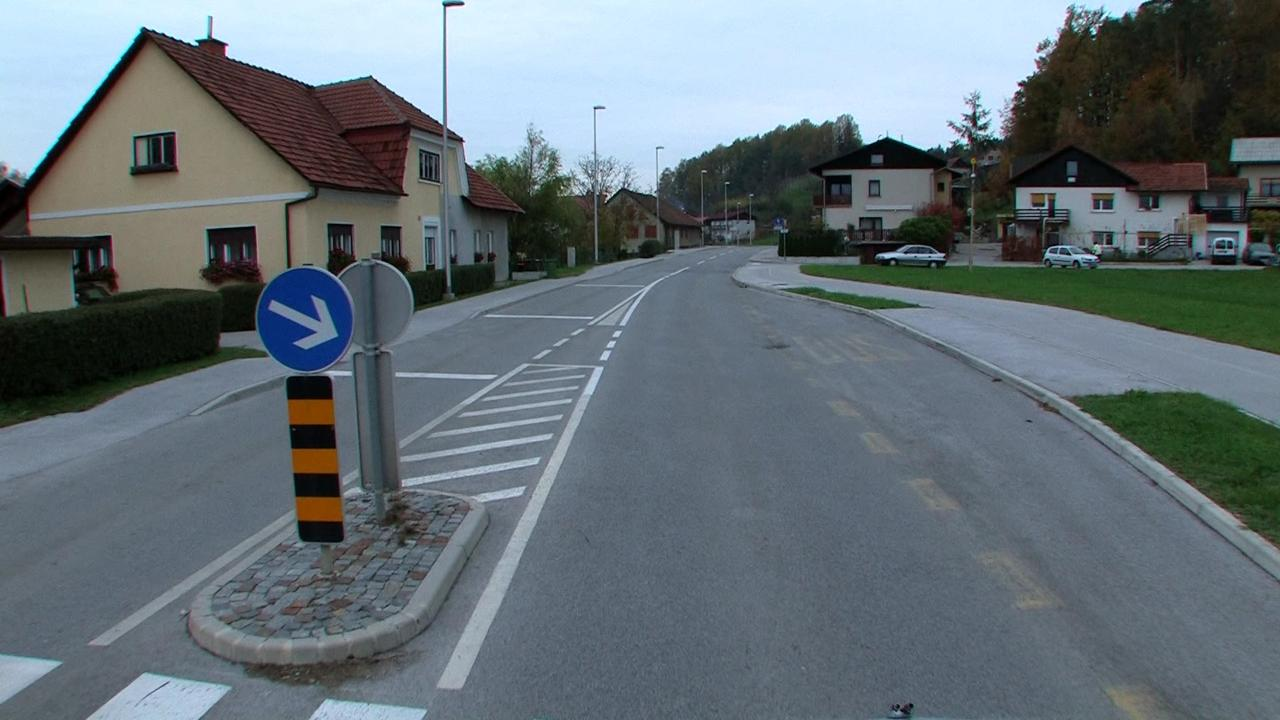Round: (257, 268, 357, 374)
